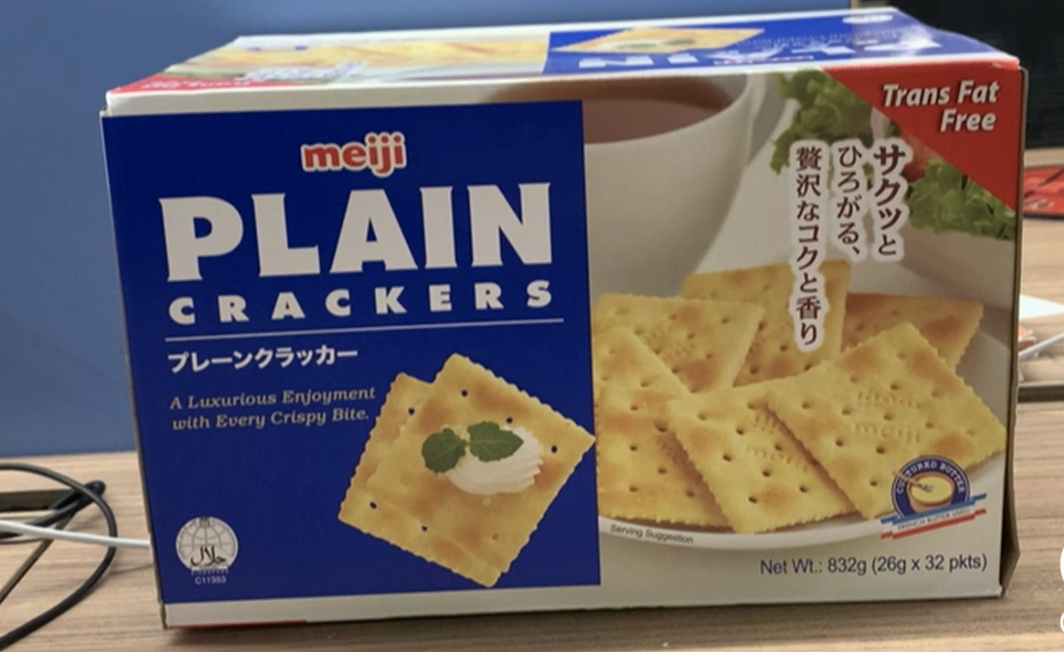crackers_850g: (141, 79, 1004, 587)
